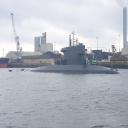submarine: (10, 35, 122, 76)
